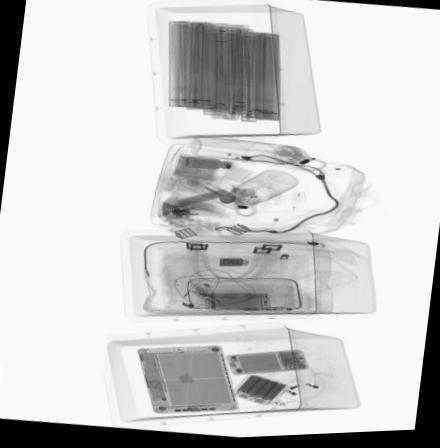Powerbank: (231, 376, 289, 409)
